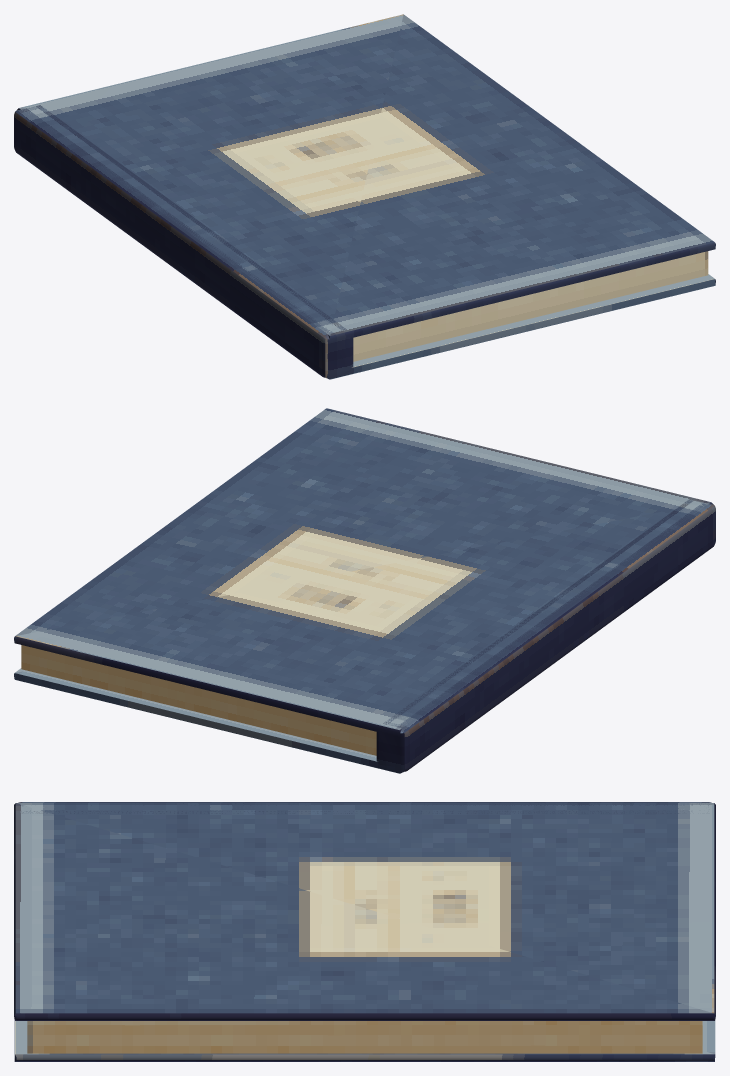
Rendered from notebook_own.glb.
3 renders of one model, top to bottom at view 1: azimuth 30°, elevation 25°; view 2: azimuth 150°, elevation 25°; view 3: azimuth 270°, elevation 25°, orthographic. The views are drawn at different scales.
Parts seen in each view (by area): view 1: mesh; view 2: mesh; view 3: mesh.
Boxes of the visible parts, left/top/right/bottom form: mesh: left=14, top=14, right=715, bottom=379; mesh: left=14, top=408, right=715, bottom=773; mesh: left=14, top=802, right=715, bottom=1061.
Bounding box in the file's own units: 0.152 × 0.016 × 0.21.
Materials: 1 (1 with a texture image).
